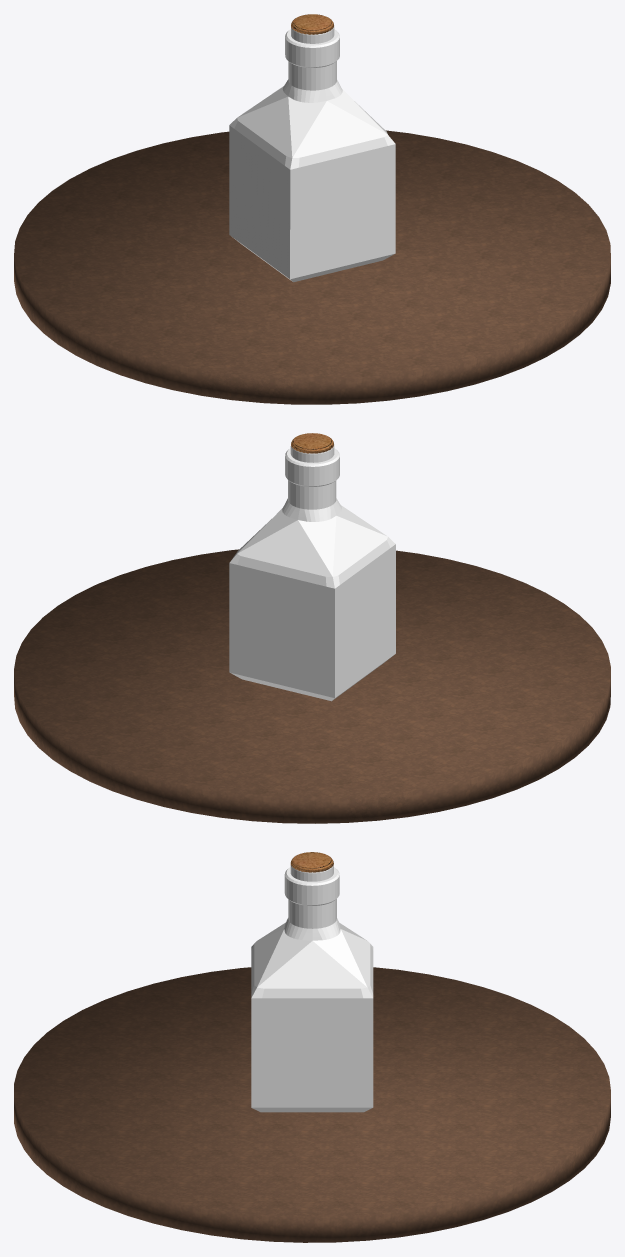
File: potion.glb
3 renders of one model, top to bottom at view 1: azimuth 30°, elevation 25°; view 2: azimuth 150°, elevation 25°; view 3: azimuth 270°, elevation 25°, orthographic.
Parts seen in each view (by area): view 1: Cylinder, Cube, Cylinder.001; view 2: Cylinder, Cube, Cylinder.001; view 3: Cylinder, Cube, Cylinder.001.
Boxes of the visible parts, x1,y1,x2,y2 form: Cylinder: [14, 130, 610, 404]; Cube: [229, 25, 395, 282]; Cylinder.001: [291, 14, 333, 34]; Cylinder: [14, 549, 610, 823]; Cube: [229, 444, 395, 701]; Cylinder.001: [291, 433, 333, 453]; Cylinder: [14, 967, 610, 1242]; Cube: [251, 864, 373, 1112]; Cylinder.001: [290, 852, 333, 872].
Size of the model in its own units: 9.8 by 4.66 by 9.79.
4 materials, 3 textured.
